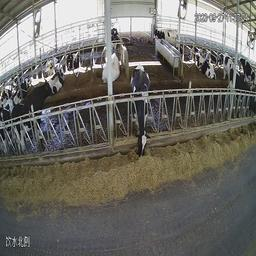cow: (12, 74, 53, 154), (128, 53, 154, 169), (228, 67, 255, 129), (150, 18, 178, 50), (190, 48, 216, 81), (237, 48, 255, 90), (47, 61, 66, 97), (0, 90, 11, 150), (101, 50, 119, 86), (64, 43, 83, 76), (40, 51, 56, 75), (215, 43, 227, 71), (110, 22, 119, 51)
